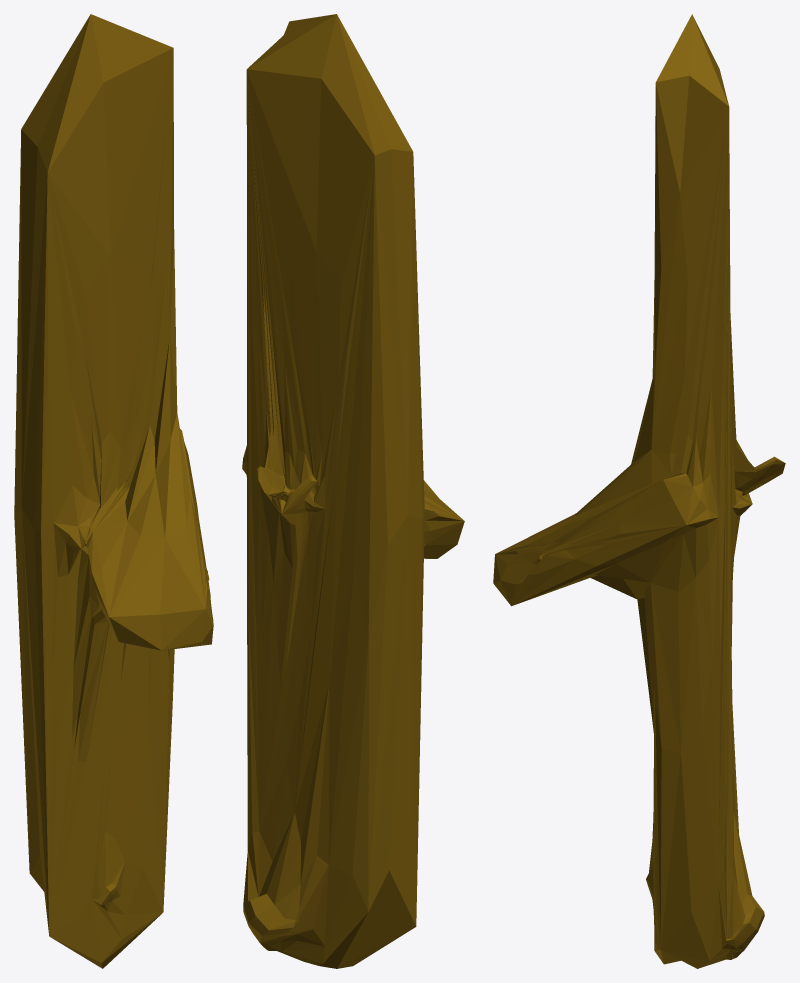
3 views of the same model, side by side, from view 1: azimuth 30°, elevation 25°; view 2: azimuth 150°, elevation 25°; view 3: azimuth 270°, elevation 25° (orthographic).
Parts seen in each view (by area): view 1: 053_Cube.216; view 2: 053_Cube.216; view 3: 053_Cube.216.
Part boxes in pixels (x1=…): 053_Cube.216: x1=14, y1=14, x2=213, y2=968; 053_Cube.216: x1=242, y1=14, x2=464, y2=968; 053_Cube.216: x1=493, y1=14, x2=785, y2=968.
Bounding box in the file's own units: 2.19 × 11.97 × 3.34.
